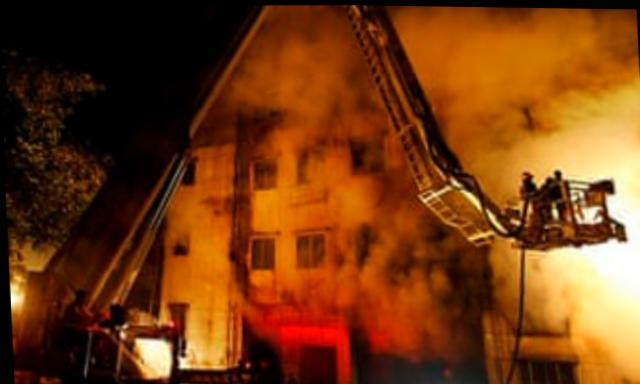smoke: (441, 5, 637, 152), (221, 3, 384, 135), (361, 225, 464, 351), (310, 142, 361, 318), (491, 238, 569, 329), (399, 11, 444, 125), (576, 305, 639, 383), (359, 164, 422, 223), (232, 300, 307, 326), (466, 153, 517, 190)
